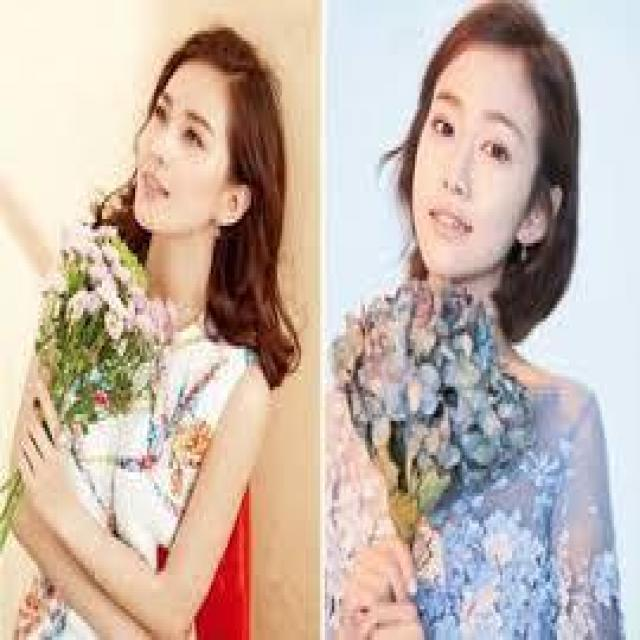organic waste: (351, 300, 517, 518), (26, 214, 183, 399)
